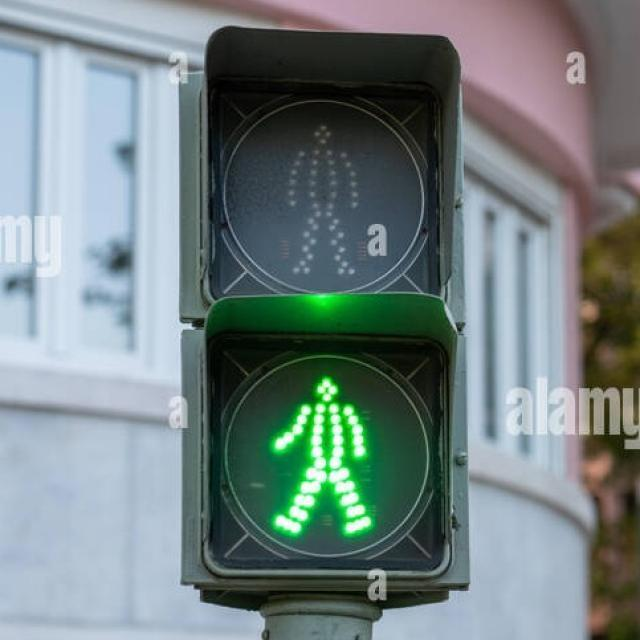geen-crossing: (262, 362, 386, 552)
